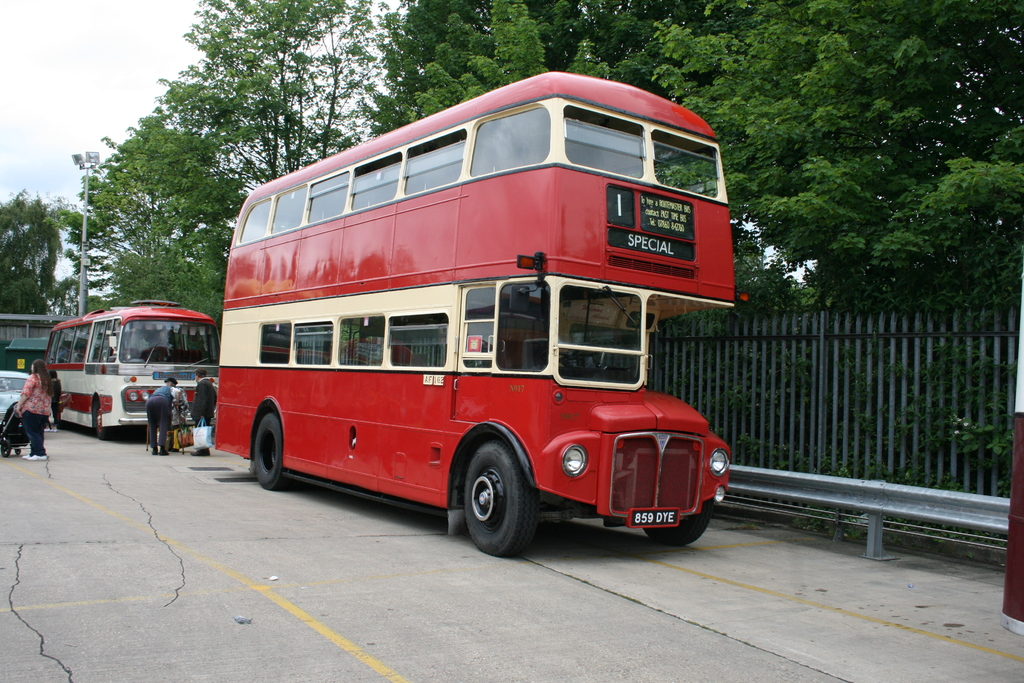Bus: (215, 76, 727, 558), (45, 304, 211, 431)
